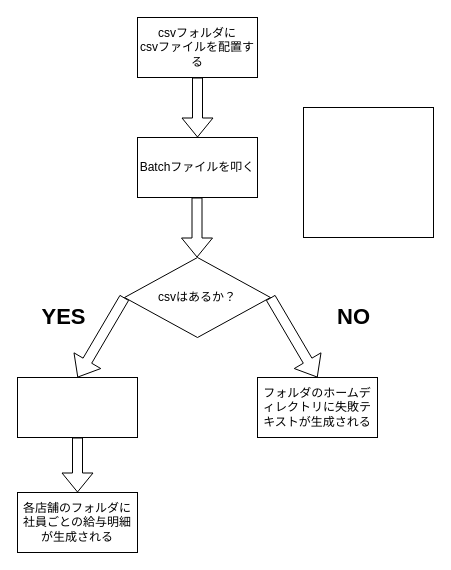
The diagram is 451 pixels wide and 570 high, and some of its shapes have lost their labels. The centre of each missing label's shape, as x and y in pixels:
"txtファイルを準備する １行目に年号 2行目に月 を記載する" goes at [368,172].
"給与明細 処理実行" goes at [77,407].
